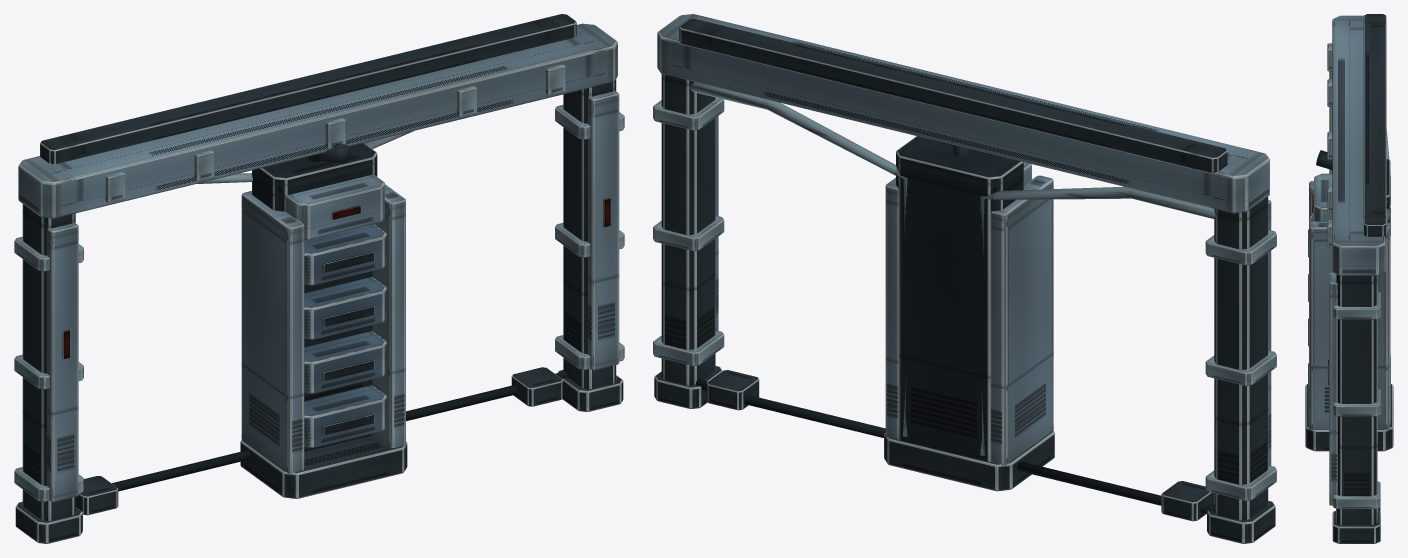
Rendered from V47_DeploymentBay.fbx.
3 views of the same model, side by side, from view 1: azimuth 30°, elevation 25°; view 2: azimuth 150°, elevation 25°; view 3: azimuth 270°, elevation 25° (orthographic). The views are drawn at different scales.
Parts seen in each view (by area): view 1: V47_DeploymentBay; view 2: V47_DeploymentBay; view 3: V47_DeploymentBay.
Part boxes in pixels (x1,y1,x2,y2): V47_DeploymentBay: [14, 14, 624, 543]; V47_DeploymentBay: [653, 14, 1276, 543]; V47_DeploymentBay: [1305, 14, 1393, 543].
Size of the model in its own units: 7.59 by 4.63 by 1.2.
